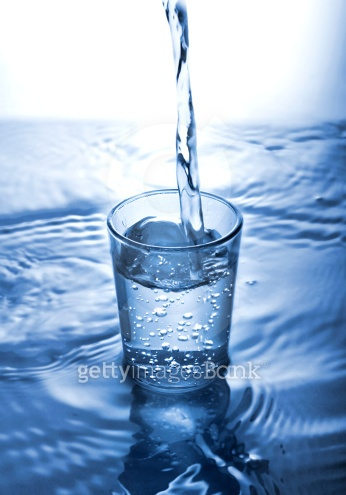glass of water: (99, 183, 250, 394)
